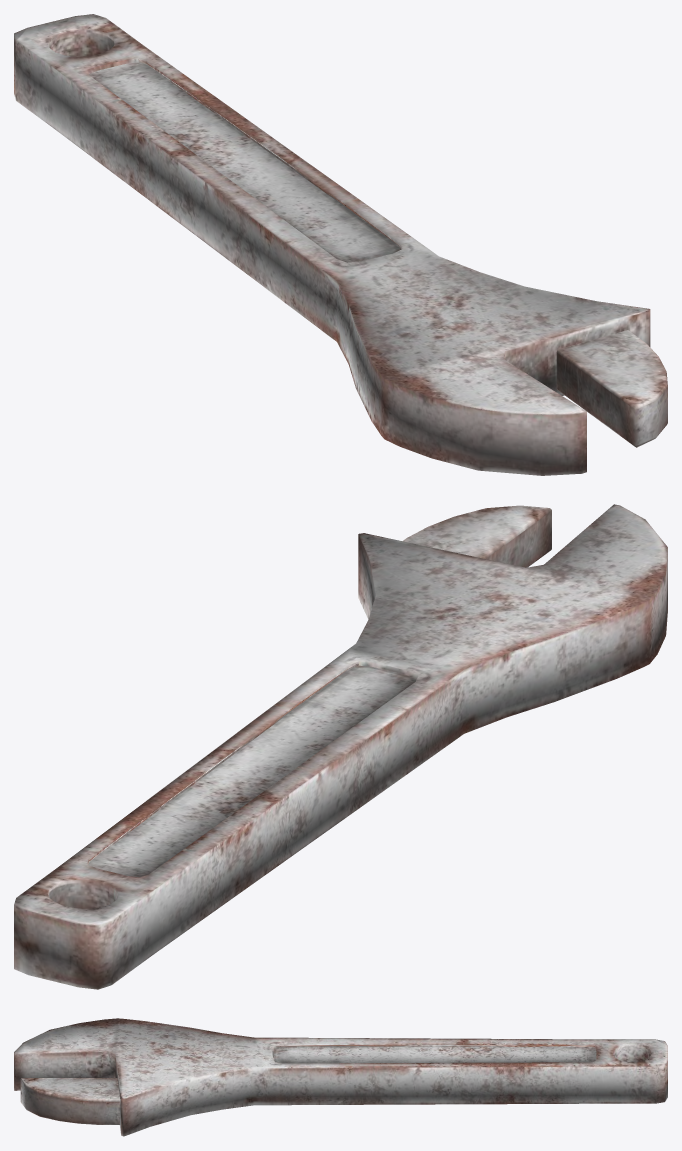
File: Herr_llave_espanola.obj
3 renders of one model, top to bottom at view 1: azimuth 30°, elevation 25°; view 2: azimuth 150°, elevation 25°; view 3: azimuth 270°, elevation 25°, orthographic. The views are drawn at different scales.
Visible parts, largest first — view 1: Herr_llave_espanola; view 2: Herr_llave_espanola; view 3: Herr_llave_espanola.
Part boxes in pixels (bbox=[...]): Herr_llave_espanola: bbox=[14, 14, 667, 475]; Herr_llave_espanola: bbox=[14, 504, 667, 989]; Herr_llave_espanola: bbox=[14, 1018, 667, 1136].
Bounding box in the file's own units: 0.0714 × 0.0153 × 0.2436.
Materials: 1 (1 with a texture image).
